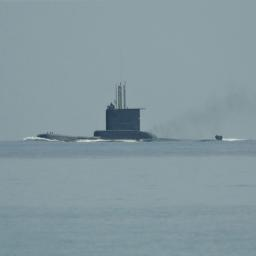submarine: (37, 81, 223, 144)
